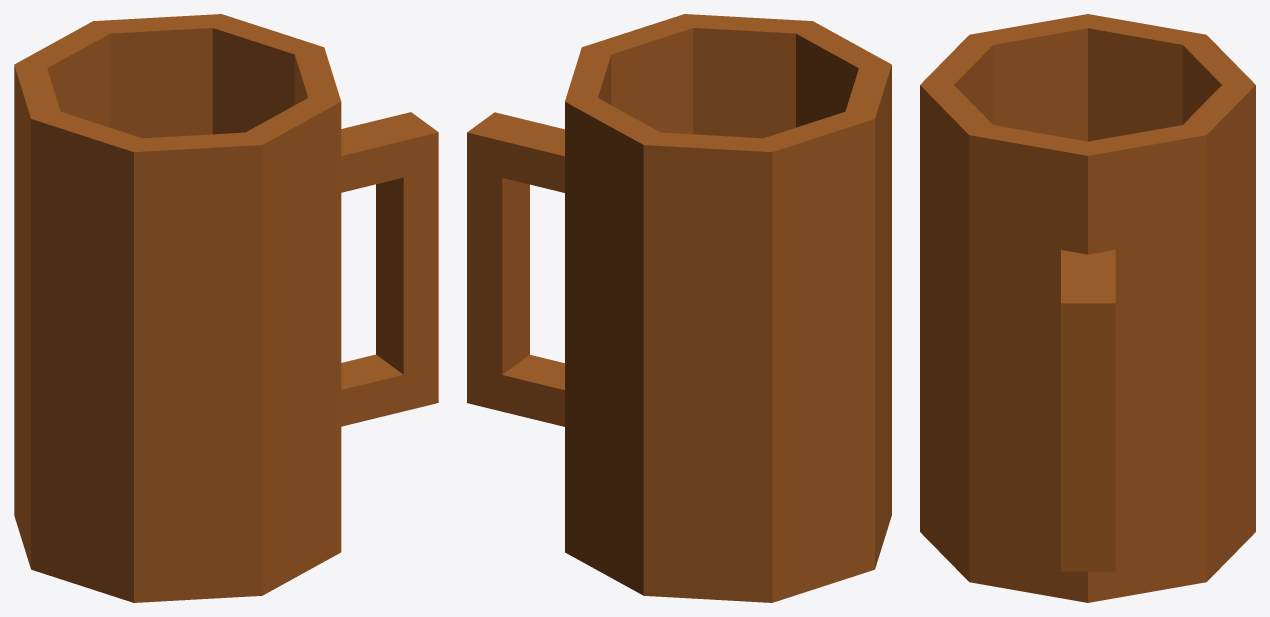
Rendered from SM_cup_05.FBX.
3 renders of one model, left to right at view 1: azimuth 30°, elevation 25°; view 2: azimuth 150°, elevation 25°; view 3: azimuth 270°, elevation 25°, orthographic.
Visible parts, largest first — view 1: Object104; view 2: Object104; view 3: Object104.
Part boxes in pixels (box(x1,y1,x2,y2)): Object104: box(14, 14, 438, 602); Object104: box(467, 14, 891, 602); Object104: box(920, 14, 1255, 602).
Bounding box in the file's own units: 23.55 × 25.75 × 17.53.
